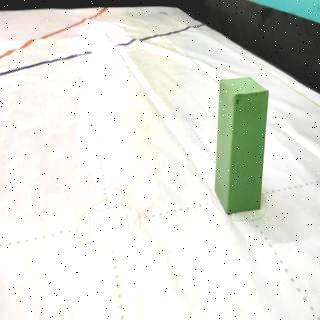greenbox: (215, 75, 270, 217)
